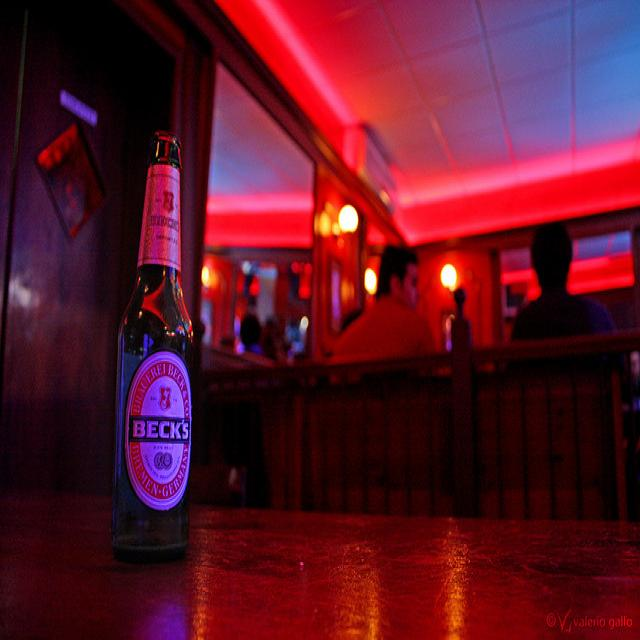Bottle: (117, 119, 205, 570)
People: (493, 194, 591, 361), (357, 210, 432, 378)
Table: (12, 478, 640, 640)
